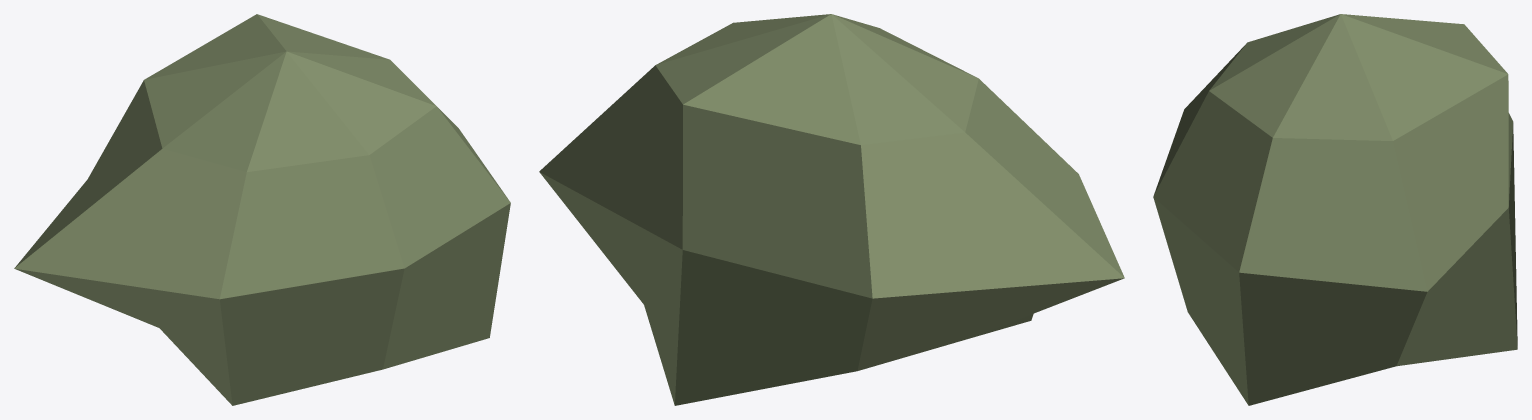
The model's file is rock_b.glb.
3 renders of one model, left to right at view 1: azimuth 30°, elevation 25°; view 2: azimuth 150°, elevation 25°; view 3: azimuth 270°, elevation 25°, orthographic. The views are drawn at different scales.
Visible parts, largest first — view 1: rock_b; view 2: rock_b; view 3: rock_b.
Boxes of the visible parts, x1=… form: rock_b: x1=14, y1=14, x2=510, y2=405; rock_b: x1=539, y1=14, x2=1124, y2=405; rock_b: x1=1153, y1=14, x2=1517, y2=405.
Size of the model in its own units: 2.64 by 1.64 by 1.65.
